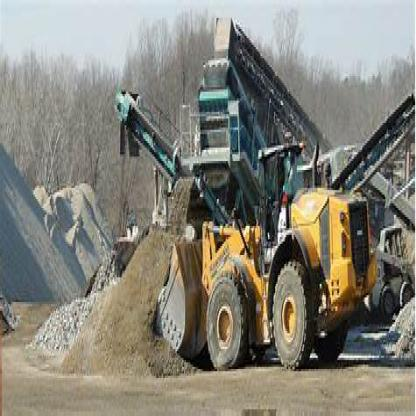bull_dozer/loader/grader: (152, 125, 379, 387)
